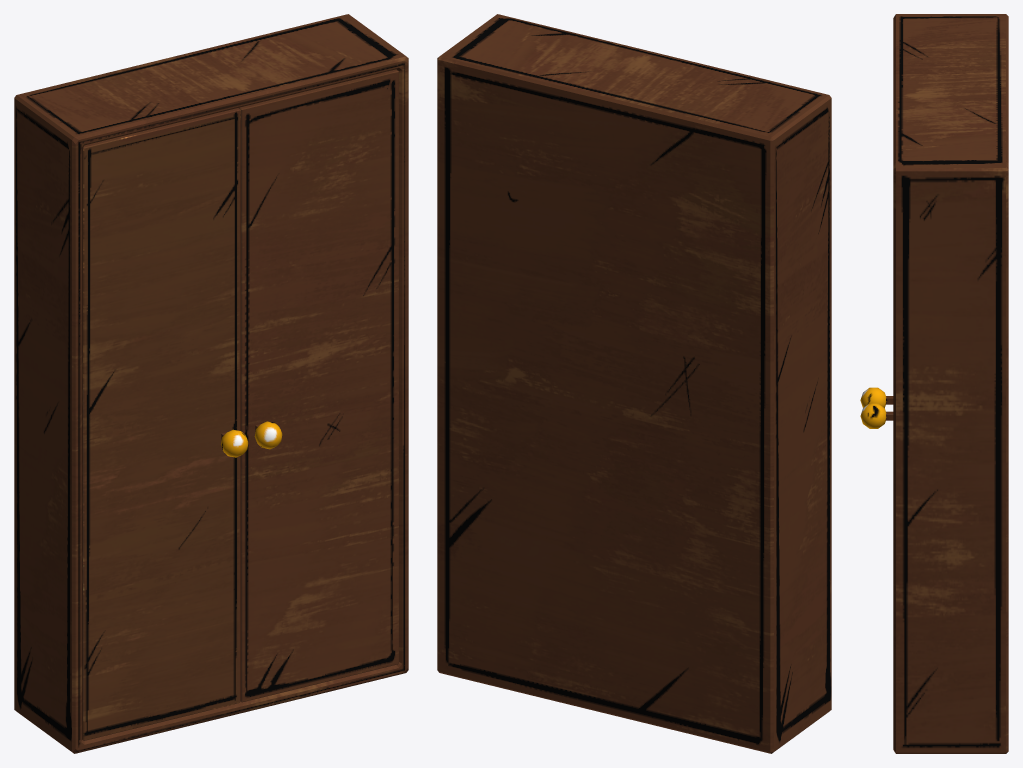
File: Shelf_B.glb
The picture shows the model from 3 angles, left to right: view 1: azimuth 30°, elevation 25°; view 2: azimuth 150°, elevation 25°; view 3: azimuth 270°, elevation 25°; orthographic projection. The views are drawn at different scales.
Visible parts, largest first — view 1: Shelf B.001, Shelf B.002, Shelf B; view 2: Shelf B; view 3: Shelf B, Shelf B.002, Shelf B.001.
Part boxes in pixels (bbox=[...]): Shelf B.001: bbox=[82, 108, 248, 740]; Shelf B.002: bbox=[239, 69, 398, 702]; Shelf B: bbox=[14, 14, 408, 753]; Shelf B: bbox=[437, 14, 831, 753]; Shelf B: bbox=[893, 14, 1008, 753]; Shelf B.002: bbox=[860, 403, 893, 428]; Shelf B.001: bbox=[860, 387, 893, 407].
Bounding box in the file's own units: 6.14 × 10.76 × 2.46.
Materials: 1 (1 with a texture image).
